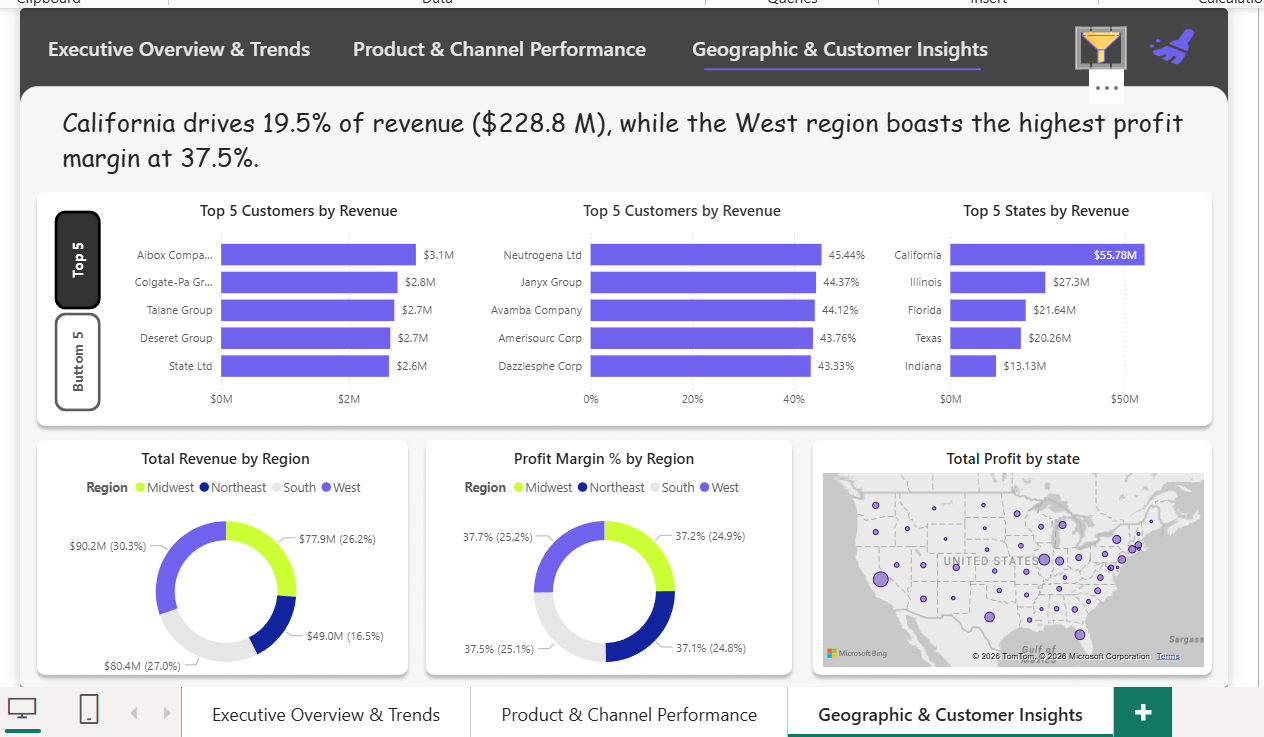

What the dashboard file says about the page in this screenshot:
{"tool":"powerbi","page":{"name":"Geographic & Customer Insights","canvas":[1280,720],"ordinal":3},"visuals":[{"type":"barChart","title":"Top 5 States by Revenue","fields":{"Category":["Sales_data.state_name"],"Y":["Measures_.Total Revenue"]},"box":[917,203.4,344.1,228.8],"z":0,"group":"g2"},{"type":"actionButton","box":[37,215,49,105],"z":0,"group":"g1"},{"type":"donutChart","title":"Total Revenue by Region","fields":{"Category":["Sales_data.us_region"],"Y":["Measures_.Total Revenue"]},"box":[20.3,466.1,394.9,254.2],"z":0},{"type":"barChart","title":"Top 5 Customers by Revenue","fields":{"Category":["Sales_data.customer_name"],"Y":["Measures_.Profit Margin %"]},"box":[486.5,203.4,430.5,228.8],"z":1000,"group":"g2"},{"type":"actionButton","box":[36.7,323.3,49,105],"z":1000,"group":"g1"},{"type":"donutChart","title":"Profit Margin % by Region","fields":{"Category":["Sales_data.us_region"],"Y":["Measures_.Profit Margin %"]},"box":[415.3,466.1,408.5,254.2],"z":1000},{"type":"actionButton","box":[337.2,14.1,342.3,55.1],"z":2000},{"type":"barChart","title":"Top 5 Customers by Revenue","fields":{"Category":["Sales_data.customer_name"],"Y":["Measures_.Total Revenue"]},"box":[105.1,203.4,381.4,228.8],"z":2000,"group":"g2"},{"type":"actionButton","box":[9,14.1,317.9,55.1],"z":3000},{"type":"actionButton","box":[702.6,14.1,333.3,55.1],"z":4000},{"type":"group","id":"g1","title":"top 5 button","box":[36.7,215,48.3,213.3],"z":6000},{"type":"map","fields":{"Category":["Sales_data.state"],"Size":["Measures_.Total Profit"]},"box":[846.9,465.7,413.8,237.7],"z":7000},{"type":"group","id":"g2","title":"top 5","box":[105.1,203.4,1155.9,228.8],"z":9000},{"type":"textbox","title":"Top Text","box":[40,96.2,1222.5,120],"z":11000},{"type":"actionButton","box":[1188,14,70,55],"z":12000},{"type":"actionButton","box":[1120,21,53,42],"z":13000}]}

Visuals, with their boxes on the page's 1280x720 design canvas (x1, y1, x2, y2). These are canvas units, not pixel positions in the 1264x737 screenshot, which may show the page scaled, cropped or inside an application window:
"Top 5 States by Revenue" barChart: 917, 203, 1261, 432
actionButton: 37, 215, 86, 320
"Total Revenue by Region" donutChart: 20, 466, 415, 720
"Top 5 Customers by Revenue" barChart: 486, 203, 917, 432
actionButton: 37, 323, 86, 428
"Profit Margin % by Region" donutChart: 415, 466, 824, 720
actionButton: 337, 14, 680, 69
"Top 5 Customers by Revenue" barChart: 105, 203, 486, 432
actionButton: 9, 14, 327, 69
actionButton: 703, 14, 1036, 69
"top 5 button" group: 37, 215, 85, 428
map - Sales_data.state x Measures_.Total Profit: 847, 466, 1261, 703
"top 5" group: 105, 203, 1261, 432
"Top Text" textbox: 40, 96, 1262, 216
actionButton: 1188, 14, 1258, 69
actionButton: 1120, 21, 1173, 63
